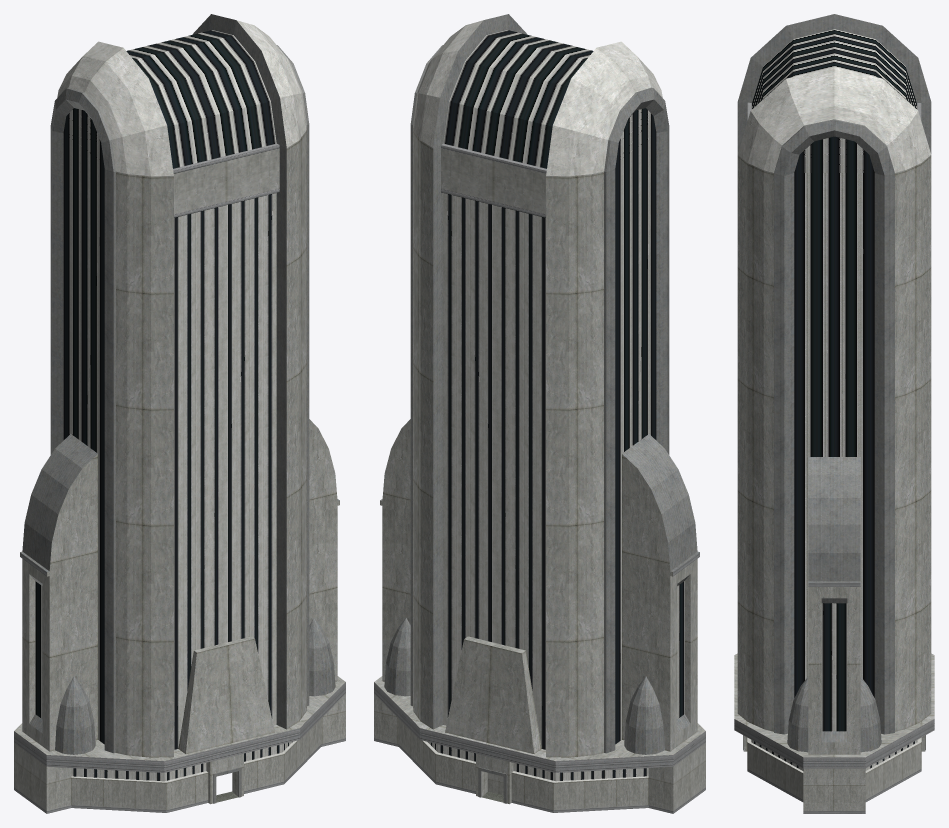
Rendered from thm_corl_skyskraper_s03_r0_mesh_l0.fbx.
3 views of the same model, side by side, from view 1: azimuth 30°, elevation 25°; view 2: azimuth 150°, elevation 25°; view 3: azimuth 270°, elevation 25° (orthographic). The views are drawn at different scales.
Parts seen in each view (by area): view 1: mesh_node; view 2: mesh_node; view 3: mesh_node.
Part boxes in pixels (x1,y1,x2,y2): mesh_node: [14, 14, 345, 813]; mesh_node: [374, 14, 705, 813]; mesh_node: [734, 14, 934, 813].
Size of the model in its own units: 60.95 by 142 by 36.8.
